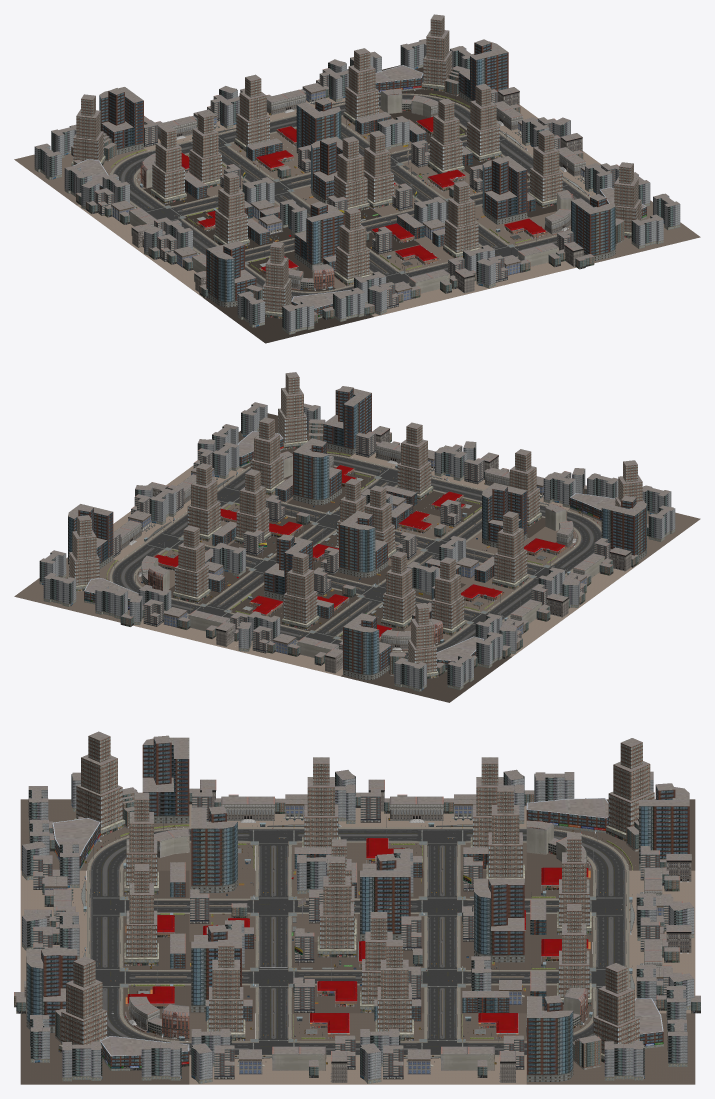
File: san andreas.glb
The picture shows the model from 3 angles, top to bottom: view 1: azimuth 30°, elevation 25°; view 2: azimuth 150°, elevation 25°; view 3: azimuth 270°, elevation 25°; orthographic projection. The views are drawn at different scales.
Visible parts, largest first — view 1: mesh; view 2: mesh; view 3: mesh.
Part boxes in pixels (left/top/right/bottom): mesh: left=14, top=14, right=700, bottom=343; mesh: left=14, top=372, right=700, bottom=702; mesh: left=14, top=731, right=700, bottom=1084.
Size of what is drawn, in the model's own units: 600 by 89.22 by 611.
Materials: 10 (9 with a texture image).
